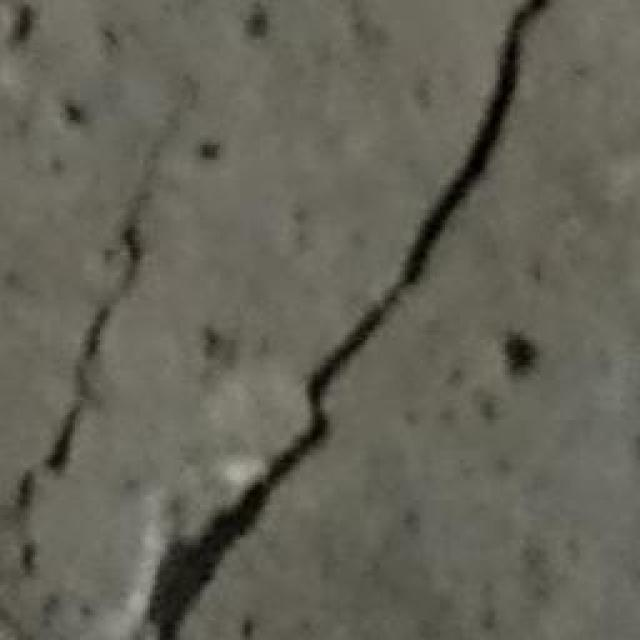Diagonal: (125, 0, 560, 633), (3, 75, 214, 550)
